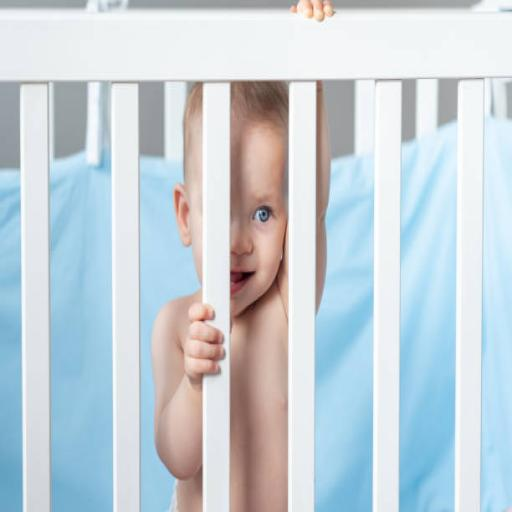baby: (231, 82, 288, 511)
crib: (0, 11, 511, 511)
